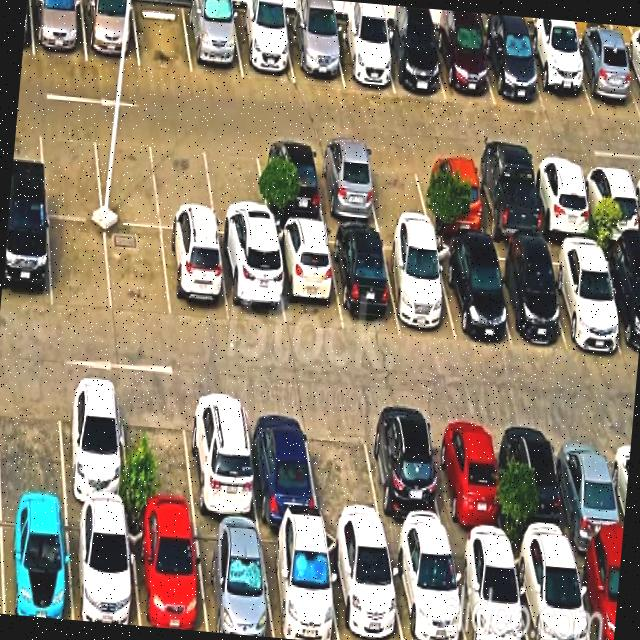empty: (304, 406, 383, 535), (120, 386, 195, 518), (0, 376, 65, 504), (93, 126, 160, 227), (203, 136, 269, 237), (105, 223, 170, 320), (39, 120, 102, 219), (152, 132, 215, 231), (48, 217, 111, 312), (363, 148, 430, 228), (132, 0, 192, 73)
occupied: (363, 411, 448, 540), (428, 414, 506, 545), (183, 393, 258, 524), (244, 399, 319, 526), (58, 379, 129, 511), (500, 418, 572, 548), (193, 520, 273, 637), (552, 423, 623, 551), (128, 515, 206, 631), (259, 527, 338, 640), (545, 244, 623, 352), (67, 508, 139, 625), (325, 531, 402, 640), (0, 504, 71, 619), (434, 241, 511, 345), (387, 539, 466, 640), (487, 244, 565, 345), (381, 234, 455, 340), (449, 541, 527, 640), (327, 229, 399, 332), (272, 225, 342, 330), (511, 546, 589, 640), (161, 229, 229, 322), (217, 235, 285, 327), (471, 157, 542, 242), (417, 153, 486, 235), (256, 141, 324, 224), (570, 40, 640, 120), (312, 145, 379, 226), (525, 37, 593, 115), (530, 160, 595, 240), (480, 30, 544, 110), (0, 208, 51, 308), (580, 163, 640, 243), (433, 27, 494, 104), (381, 27, 445, 99), (232, 9, 294, 83), (600, 247, 640, 359), (331, 22, 394, 93), (572, 549, 621, 640), (183, 4, 242, 78), (285, 18, 343, 86), (81, 0, 139, 66), (30, 0, 86, 61), (620, 46, 640, 113)
